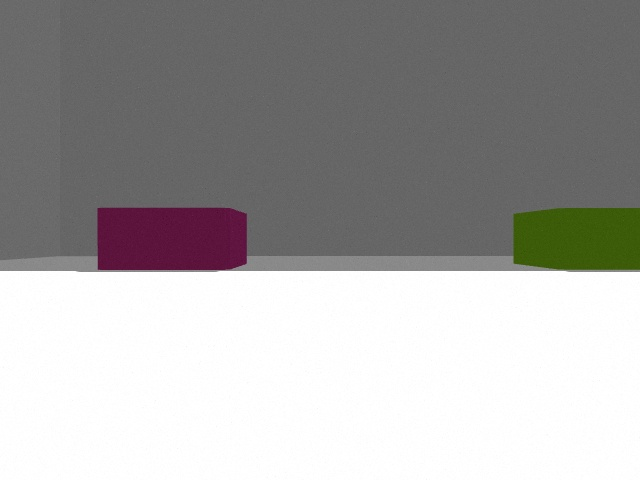green_drop_zone: (513, 208, 640, 270)
red_drop_zone: (97, 208, 247, 270)
